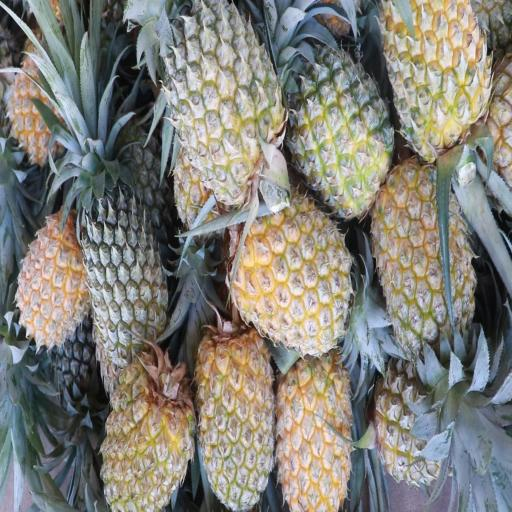------------------------------: (170, 6, 286, 190), (290, 50, 388, 214), (384, 357, 470, 481)
Pineapple - v8 v1: (376, 160, 478, 340), (236, 192, 347, 346), (380, 3, 490, 146), (194, 325, 273, 504), (102, 361, 192, 512), (275, 346, 349, 512), (20, 213, 93, 347), (7, 40, 81, 160)
